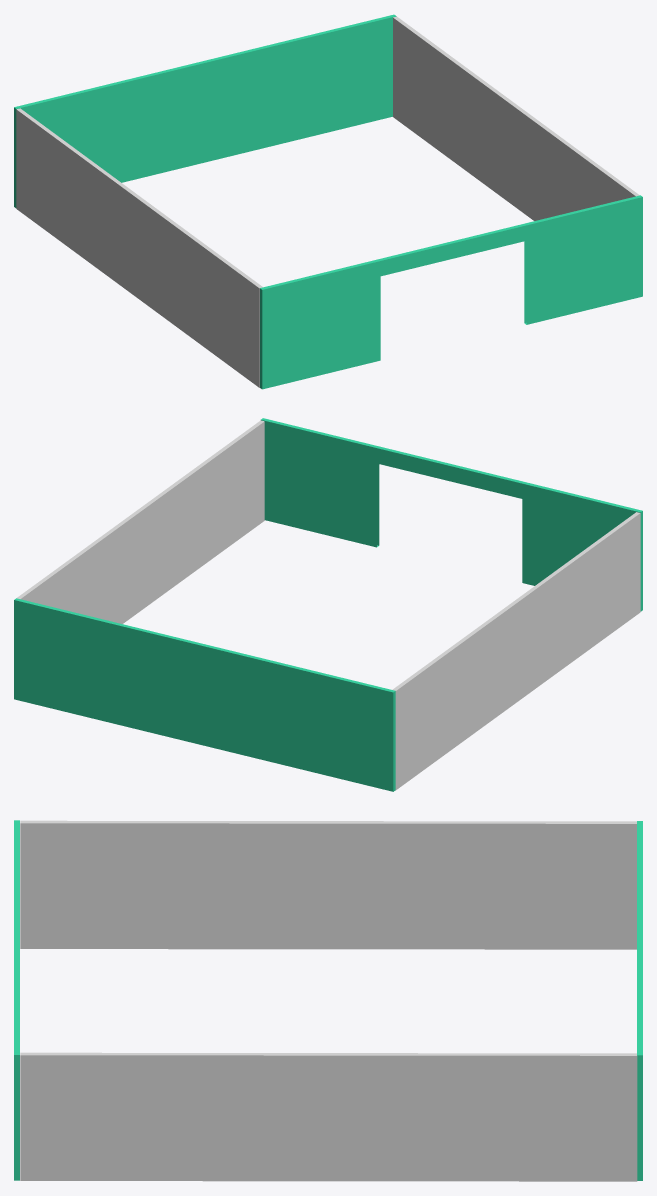
The model's file is walls_Nov17.glb.
3 views of the same model, one above another, from view 1: azimuth 30°, elevation 25°; view 2: azimuth 150°, elevation 25°; view 3: azimuth 270°, elevation 25° (orthographic). The views are drawn at different scales.
Visible parts, largest first — view 1: frontWall, frontWall.001, leftWall, rightWall; view 2: frontWall, leftWall, frontWall.001, rightWall; view 3: rightWall, leftWall, frontWall.001, frontWall.
Boxes of the visible parts, bbox=[...] form: frontWall: bbox=[14, 14, 396, 207]; frontWall.001: bbox=[260, 195, 642, 389]; leftWall: bbox=[16, 108, 262, 387]; rightWall: bbox=[393, 16, 639, 220]; frontWall: bbox=[14, 598, 395, 791]; leftWall: bbox=[392, 512, 640, 790]; frontWall.001: bbox=[261, 418, 642, 611]; rightWall: bbox=[16, 420, 264, 623]; rightWall: bbox=[20, 1052, 637, 1181]; leftWall: bbox=[20, 820, 636, 949]; frontWall.001: bbox=[14, 820, 19, 1180]; frontWall: bbox=[637, 821, 642, 1180].
Size of the model in its own units: 41.75 by 10.45 by 47.2.
